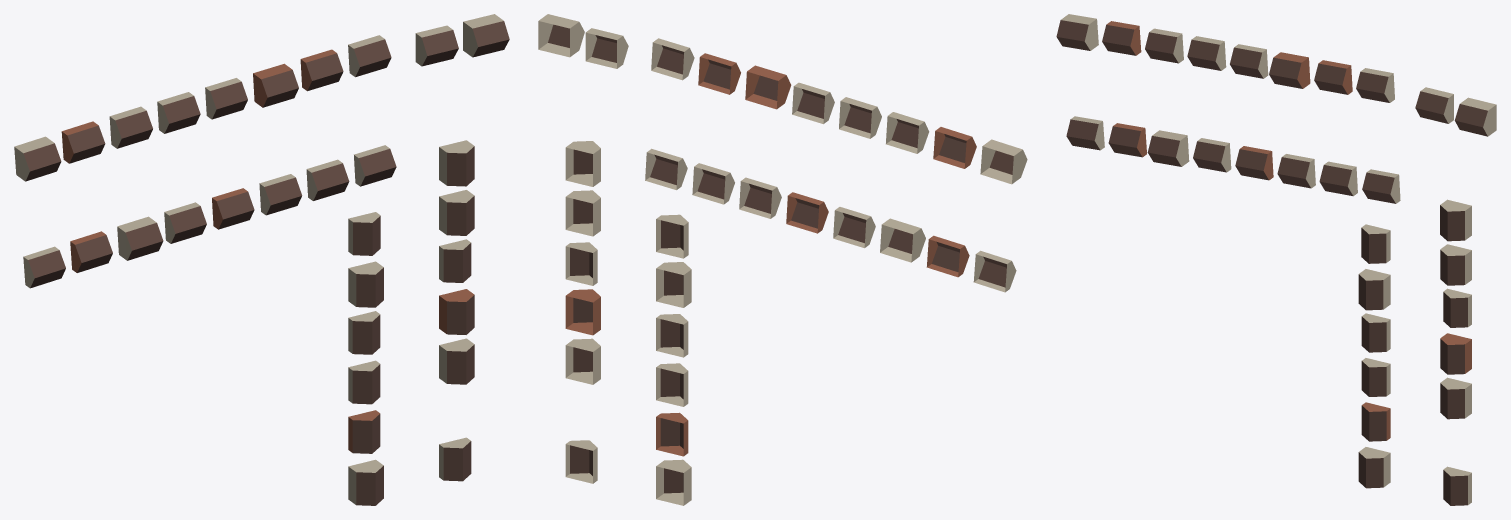
Rendered from island_bldg_18_05.obj.
The picture shows the model from 3 angles, left to right: view 1: azimuth 30°, elevation 25°; view 2: azimuth 150°, elevation 25°; view 3: azimuth 330°, elevation 25°; orthographic projection. The views are drawn at different scales.
Visible parts, largest first — view 1: island_bldg_18_05; view 2: island_bldg_18_05; view 3: island_bldg_18_05.
Boxes of the visible parts, x1,y1,x2,y2 form: island_bldg_18_05: (14, 14, 509, 505); island_bldg_18_05: (538, 14, 1027, 505); island_bldg_18_05: (1056, 14, 1496, 505).
Size of the model in its own units: 242 by 221 by 14.99.
